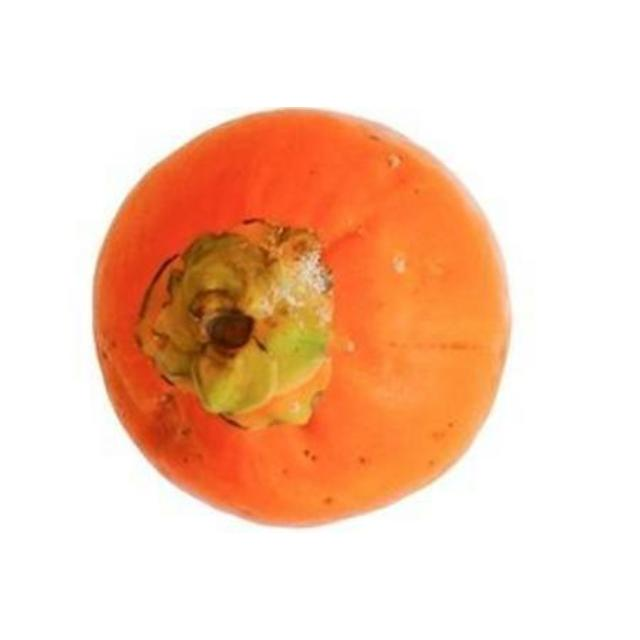good: (90, 108, 515, 531)
